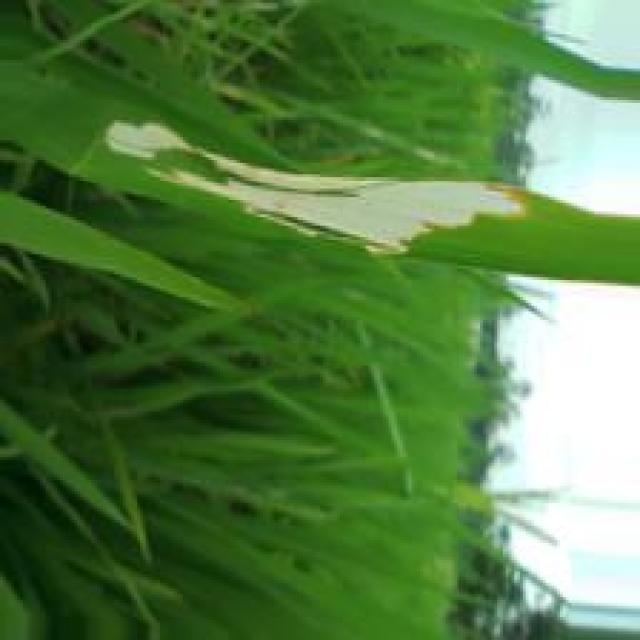Rice_Hispa: (95, 124, 538, 260)
